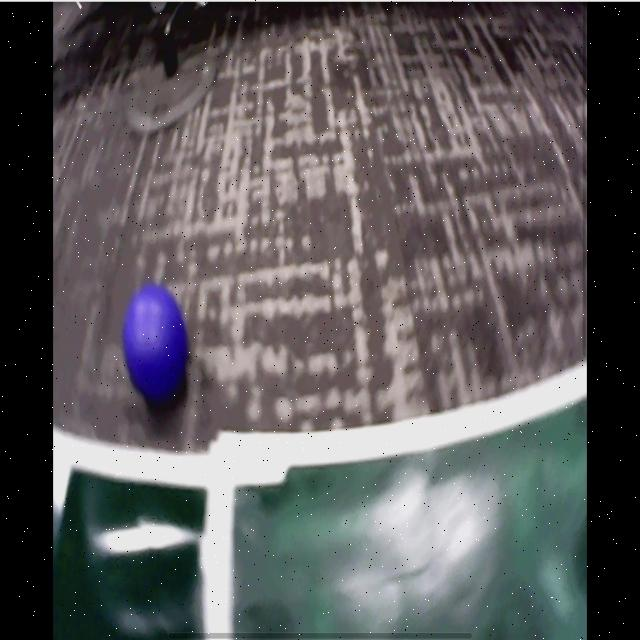ball: (124, 284, 188, 406)
